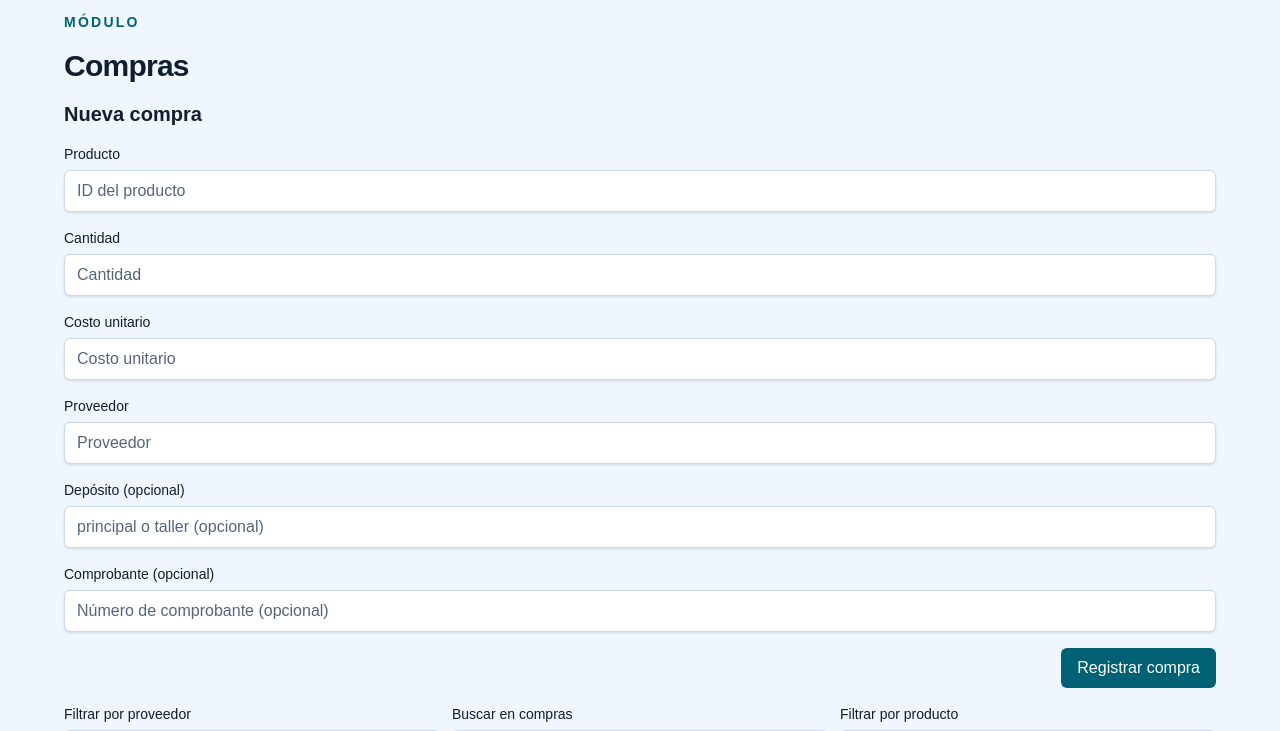
Scenario: ComprasPage › registers an entry with a per-attempt key, then shows a row and toast
Type "p_1" into the field labelled "Producto" at (640, 191), box [64,170,1216,212]
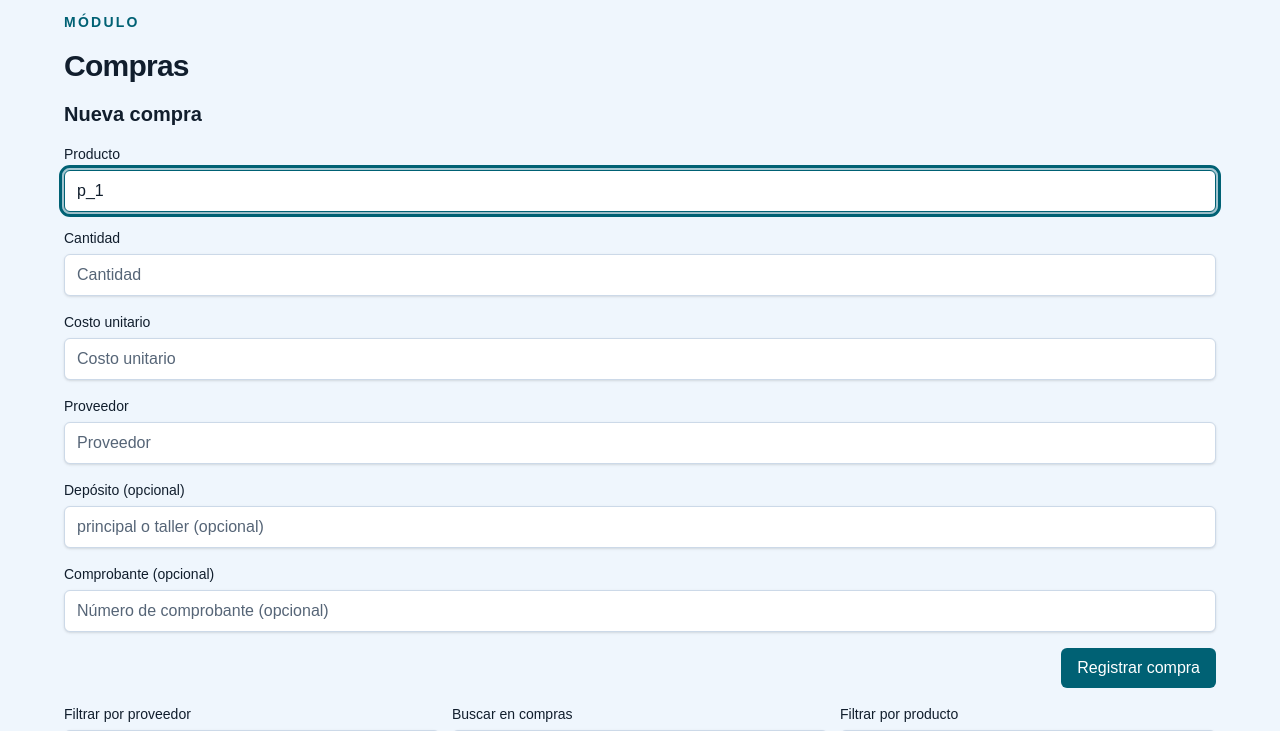
Type "10" into the number field labelled "Cantidad" at (640, 275), box [64,254,1216,296]
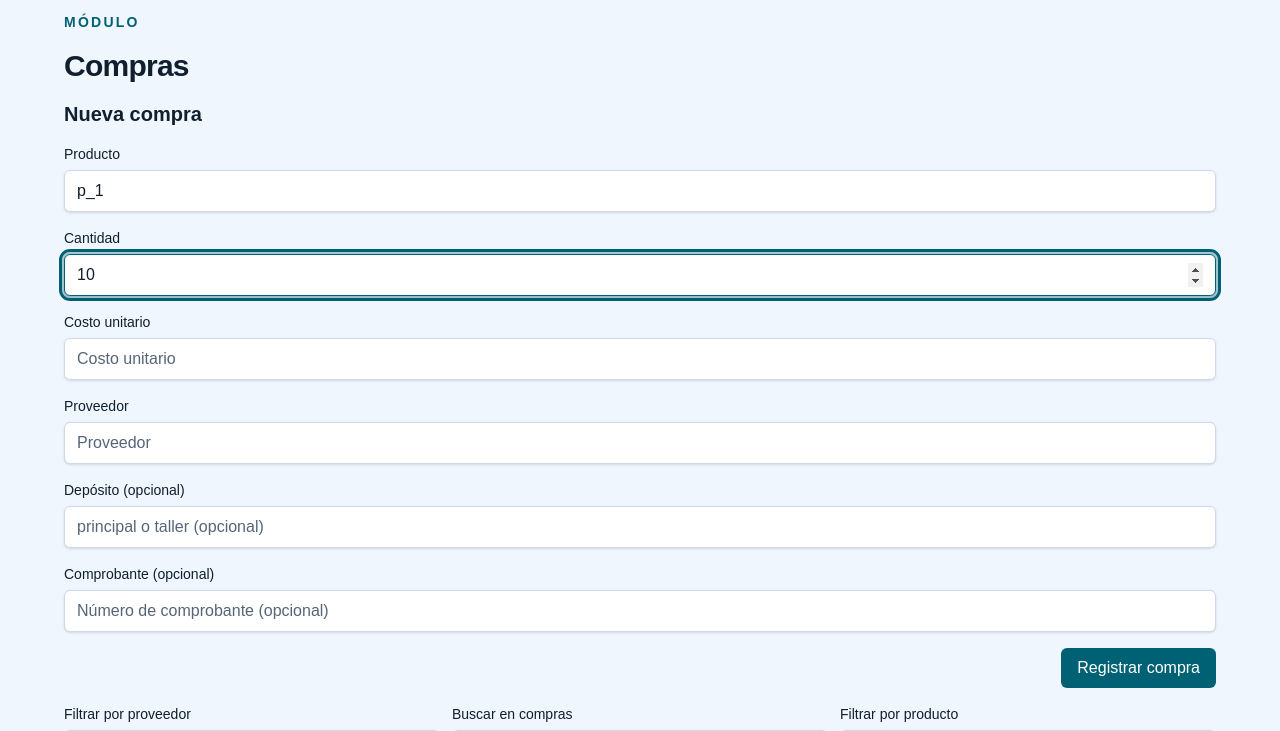
Type "120" into the number field labelled "Costo unitario" at (640, 359), box [64,338,1216,380]
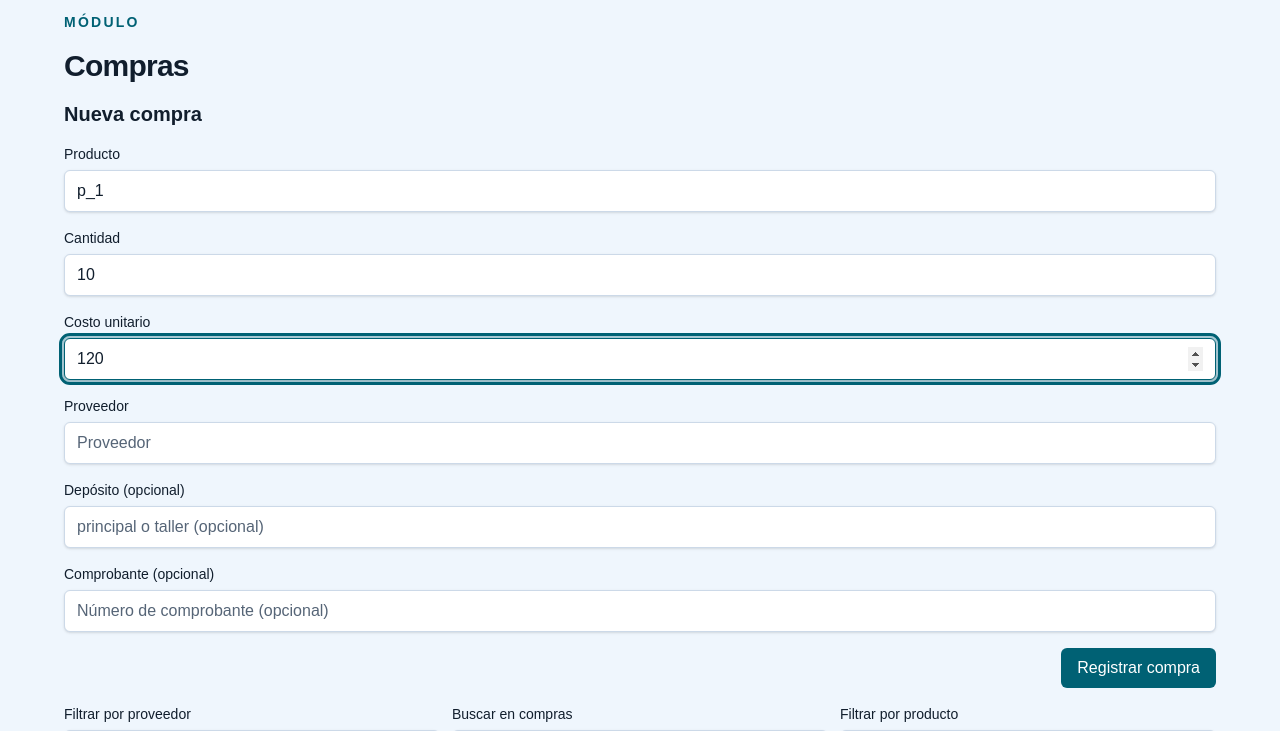
Type "Proveedor Uno" into the field labelled "Proveedor" at (640, 443), box [64,422,1216,464]
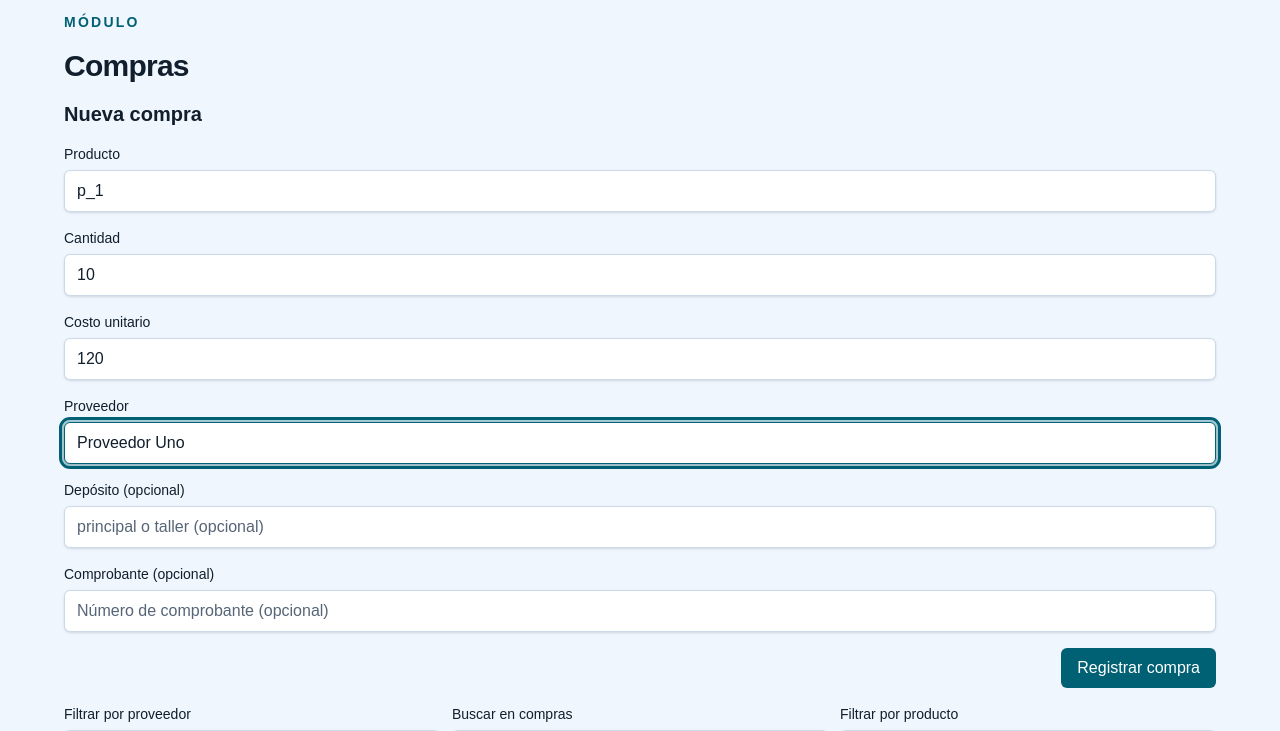
Click the button "Registrar compra" at (1139, 668), box [1061,648,1216,688]
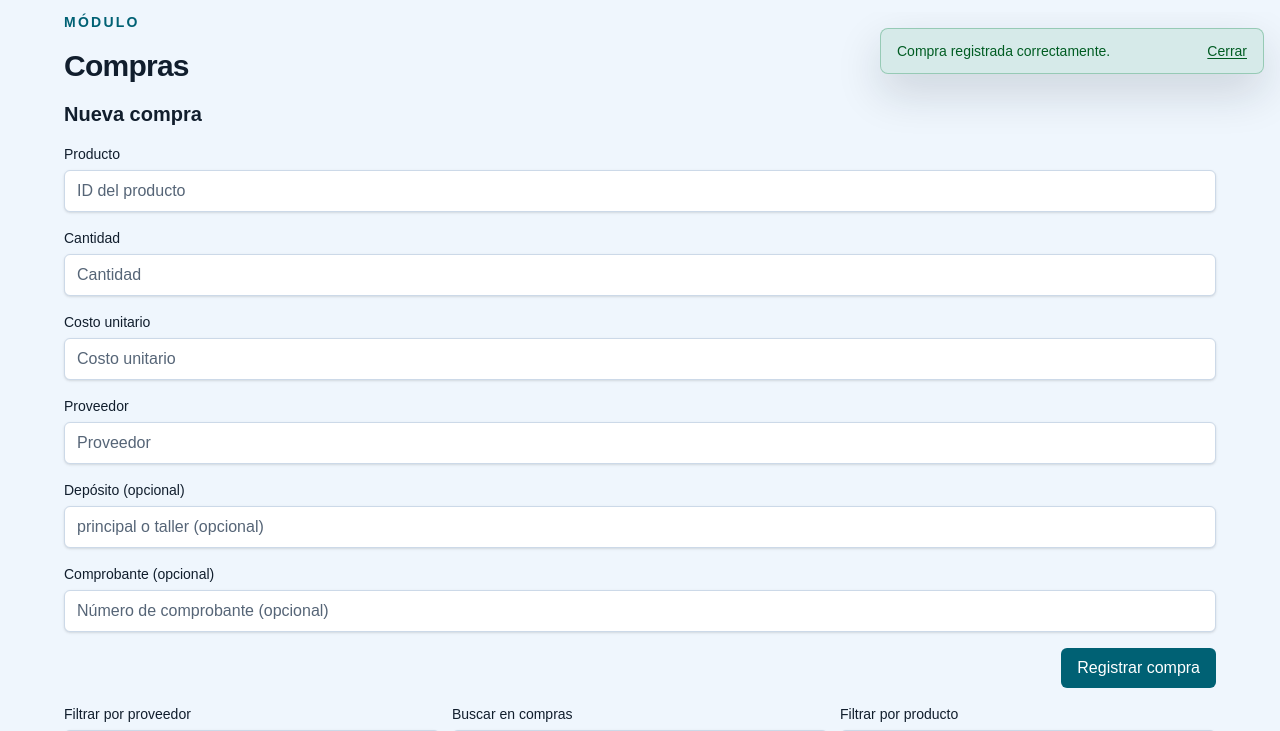
Now the message shows "Compra registrada correctamente.", box [897,43,1110,59]
